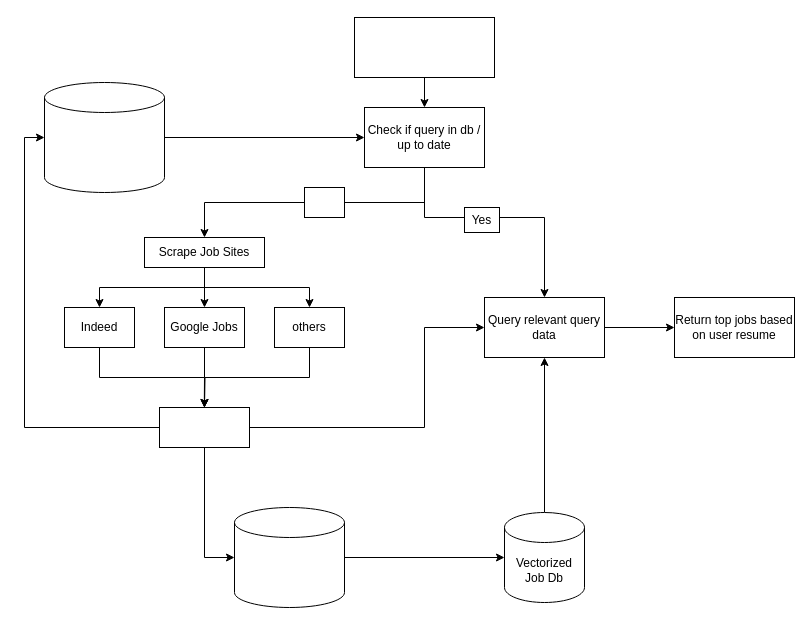
Image size: 812x625. Some labels were removed from this diagram. The shapes that lost their labels are listed below. From the top down, each one's box as (x1, y1, x2, y2) in pixels, then its label:
(354, 16, 494, 78): User input query (job_title: List[str], loc: str)
(44, 82, 164, 192): Query db (query:str, date_pull: timestamp (%y-%m-%d
(304, 186, 344, 218): No
(158, 406, 250, 448): Push to db
(234, 506, 344, 608): Job Data
